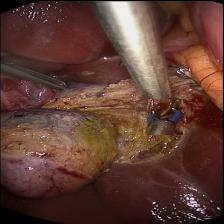Bipolar: (147, 98, 183, 134)
Grasper: (1, 56, 70, 90)
